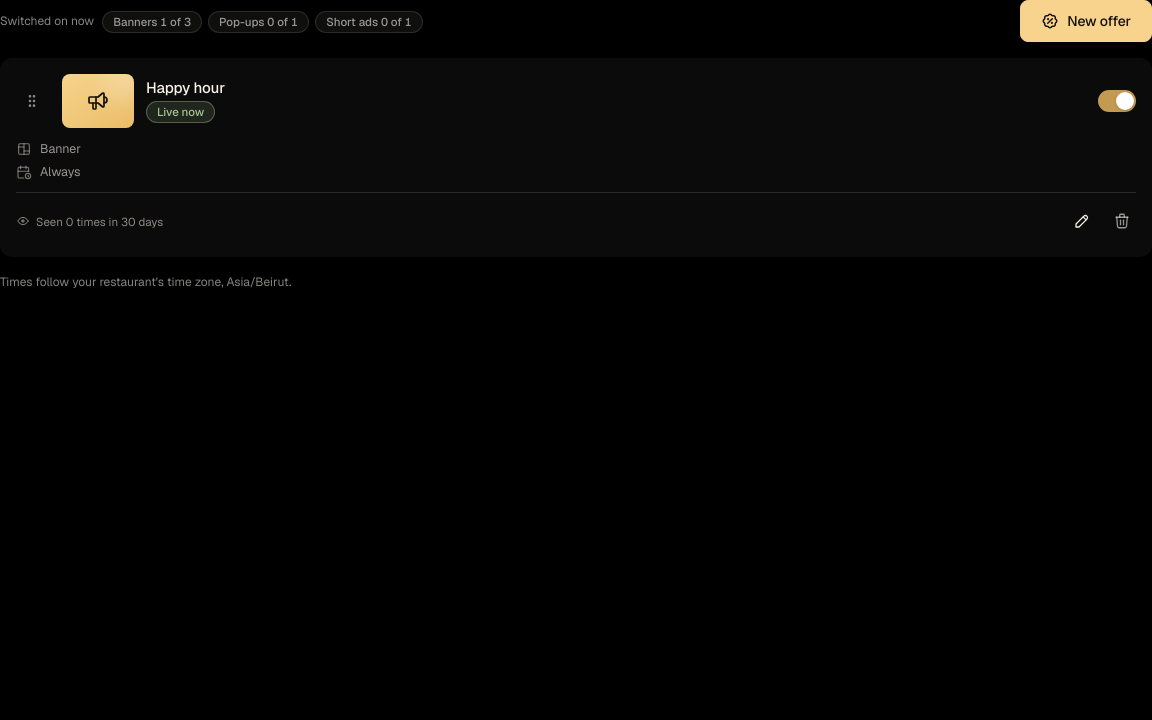
Scenario: OffersPage › deletes an offer after asking
This screenshot has width=1152, height=720.
Step 1. Click the button named "Delete Happy hour" → [1122, 221], box x1=1102 y1=201 x2=1142 y2=241
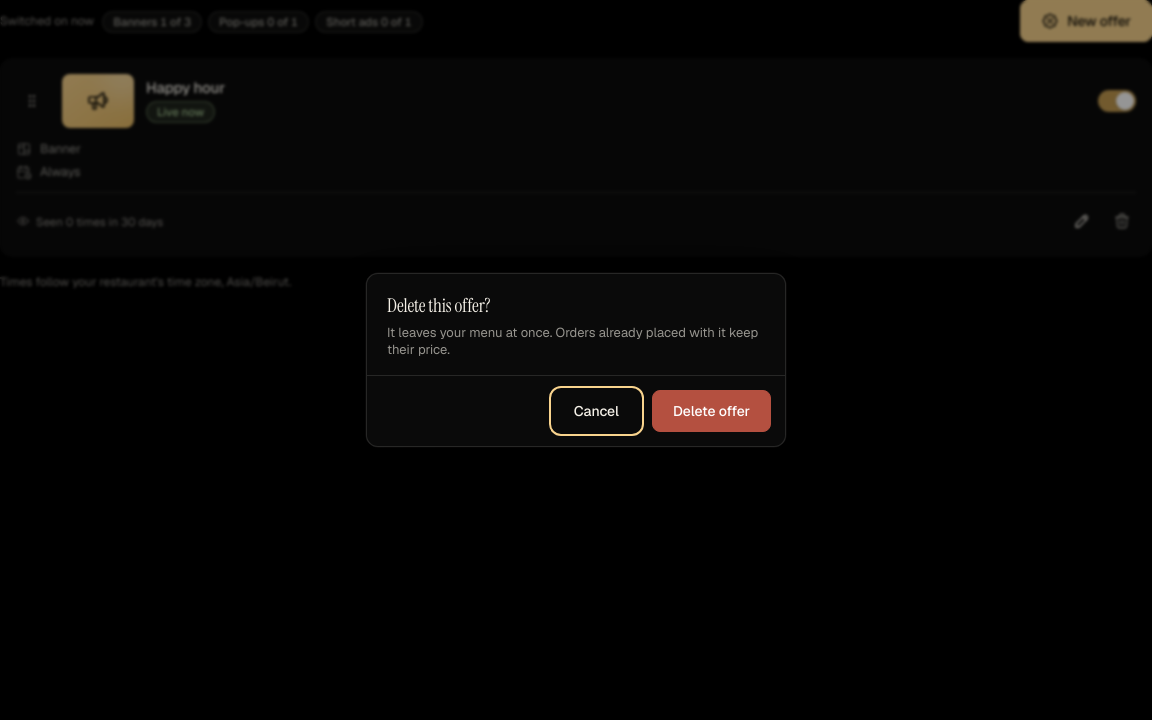
Step 2. Click the button "Delete offer" → [711, 411], box x1=652 y1=390 x2=771 y2=432
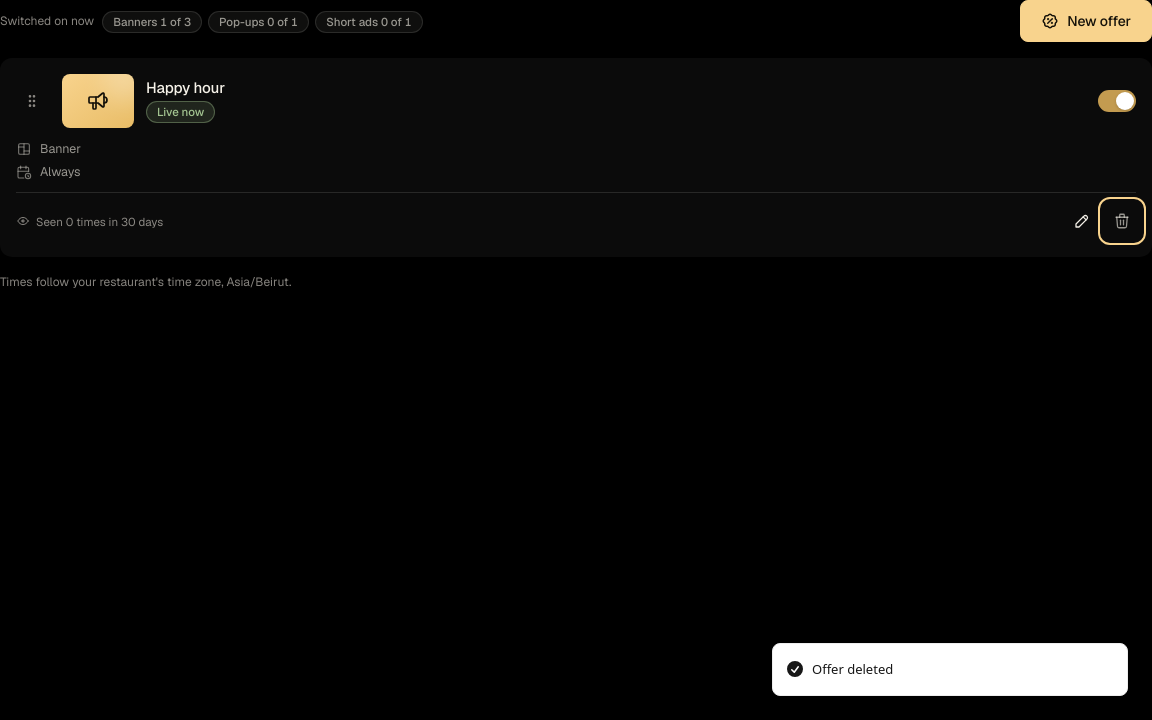
Now the text "Offer deleted" is shown, box x1=812 y1=660 x2=893 y2=679
